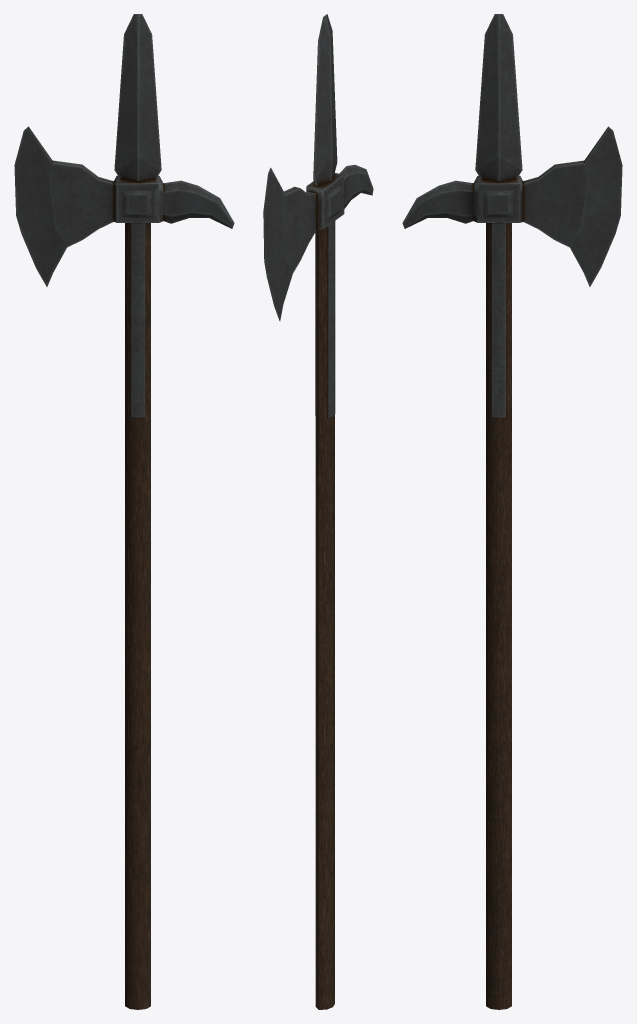
File: halberd.fbx
The picture shows the model from 3 angles, left to right: view 1: azimuth 90°, elevation 25°; view 2: azimuth 150°, elevation 25°; view 3: azimuth 270°, elevation 25°; orthographic projection.
Parts seen in each view (by area): view 1: halberd; view 2: halberd; view 3: halberd.
Part boxes in pixels (box(x1,y1,x2,y2)): halberd: box(14, 14, 234, 1009); halberd: box(263, 14, 373, 1009); halberd: box(402, 14, 622, 1009).
Size of the model in its own units: 7.61 by 352 by 70.8.
